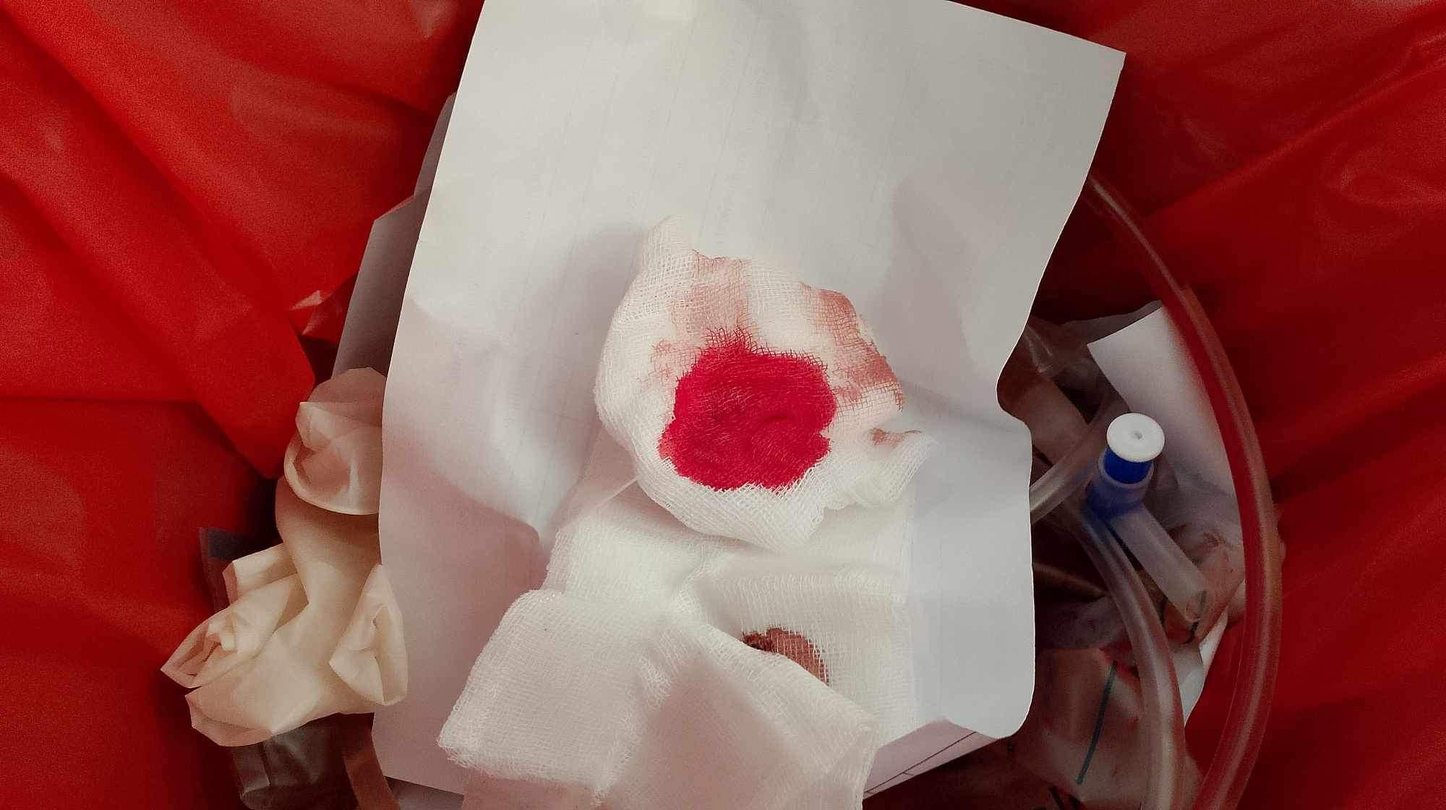General: (174, 4, 1283, 806)
Infectious: (591, 214, 934, 555)
Sharps: (1082, 411, 1211, 631)
